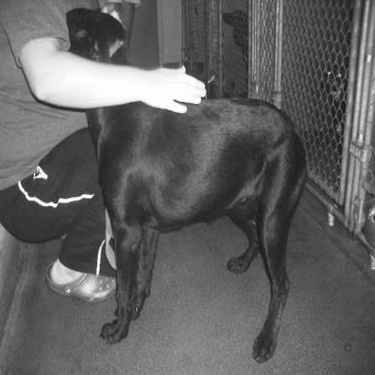dog: (41, 3, 311, 364)
